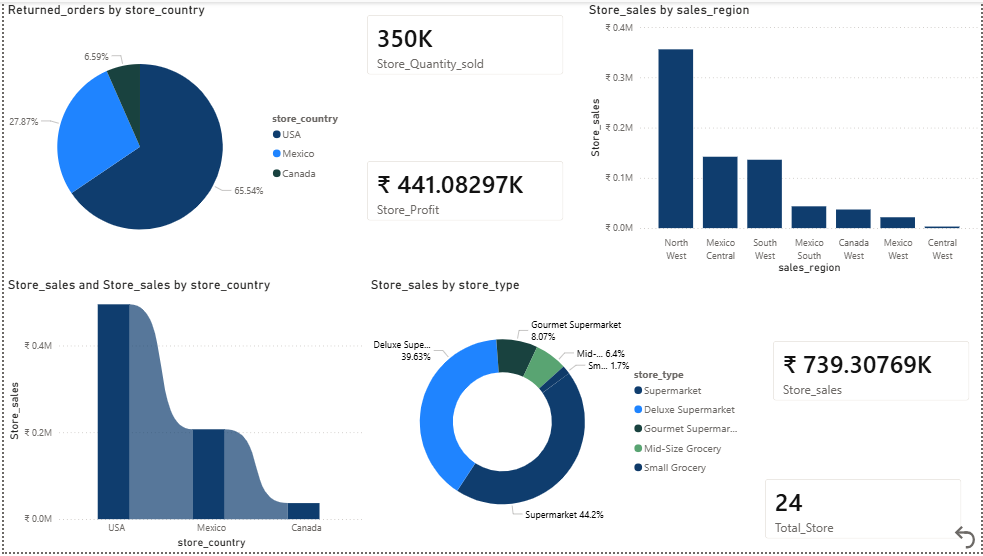

The page's visual inventory and layout, read from the dashboard file:
{"tool":"powerbi","page":{"name":"store performance","canvas":[1280,720],"ordinal":5},"visuals":[{"type":"donutChart","fields":{"Y":["Stores.Store_sales"],"Category":["Stores.store_type"]},"box":[475.6,360,503.4,360],"z":0},{"type":"cardVisual","fields":{"Data":["Stores.Total_Store"]},"box":[979,607.3,291.2,112.7],"z":1000},{"type":"clusteredColumnChart","fields":{"Category":["Regions.sales_region"],"Y":["Stores.Store_sales"]},"box":[761,0,519.5,360],"z":2000},{"type":"ribbonChart","fields":{"Category":["Stores.store_country"],"Y":["Stores.Store_sales"]},"box":[0,360,475.6,360],"z":3000},{"type":"pieChart","fields":{"Y":["Returns.Returned_orders"],"Category":["Stores.store_country"]},"box":[0,0,458,360],"z":4000},{"type":"cardVisual","fields":{"Data":["Stores.Store_Profit"]},"box":[458,191.7,291.2,112.7],"z":5000},{"type":"cardVisual","fields":{"Data":["Stores.Store_Quantity_sold"]},"box":[458,0,291.2,112.7],"z":6000},{"type":"cardVisual","fields":{"Data":["Stores.Store_sales"]},"box":[989.3,427.3,291.2,112.7],"z":7000},{"type":"actionButton","box":[1238,680.5,42.4,39.5],"z":8000}]}

Visuals, with their boxes in screenshot pixels (x1, y1, x2, y2), scaled from the page's 1280x720 canvas onto the 983x556 screenshot:
donutChart - Stores.Store_sales x Stores.store_type: x1=365 y1=278 x2=752 y2=555
cardVisual - Stores.Total_Store: x1=752 y1=469 x2=975 y2=555
clusteredColumnChart - Regions.sales_region x Stores.Store_sales: x1=584 y1=0 x2=982 y2=278
ribbonChart - Stores.store_country x Stores.Store_sales: x1=0 y1=278 x2=365 y2=555
pieChart - Returns.Returned_orders x Stores.store_country: x1=0 y1=0 x2=352 y2=278
cardVisual - Stores.Store_Profit: x1=352 y1=148 x2=575 y2=235
cardVisual - Stores.Store_Quantity_sold: x1=352 y1=0 x2=575 y2=87
cardVisual - Stores.Store_sales: x1=760 y1=330 x2=982 y2=417
actionButton: x1=951 y1=525 x2=982 y2=555
